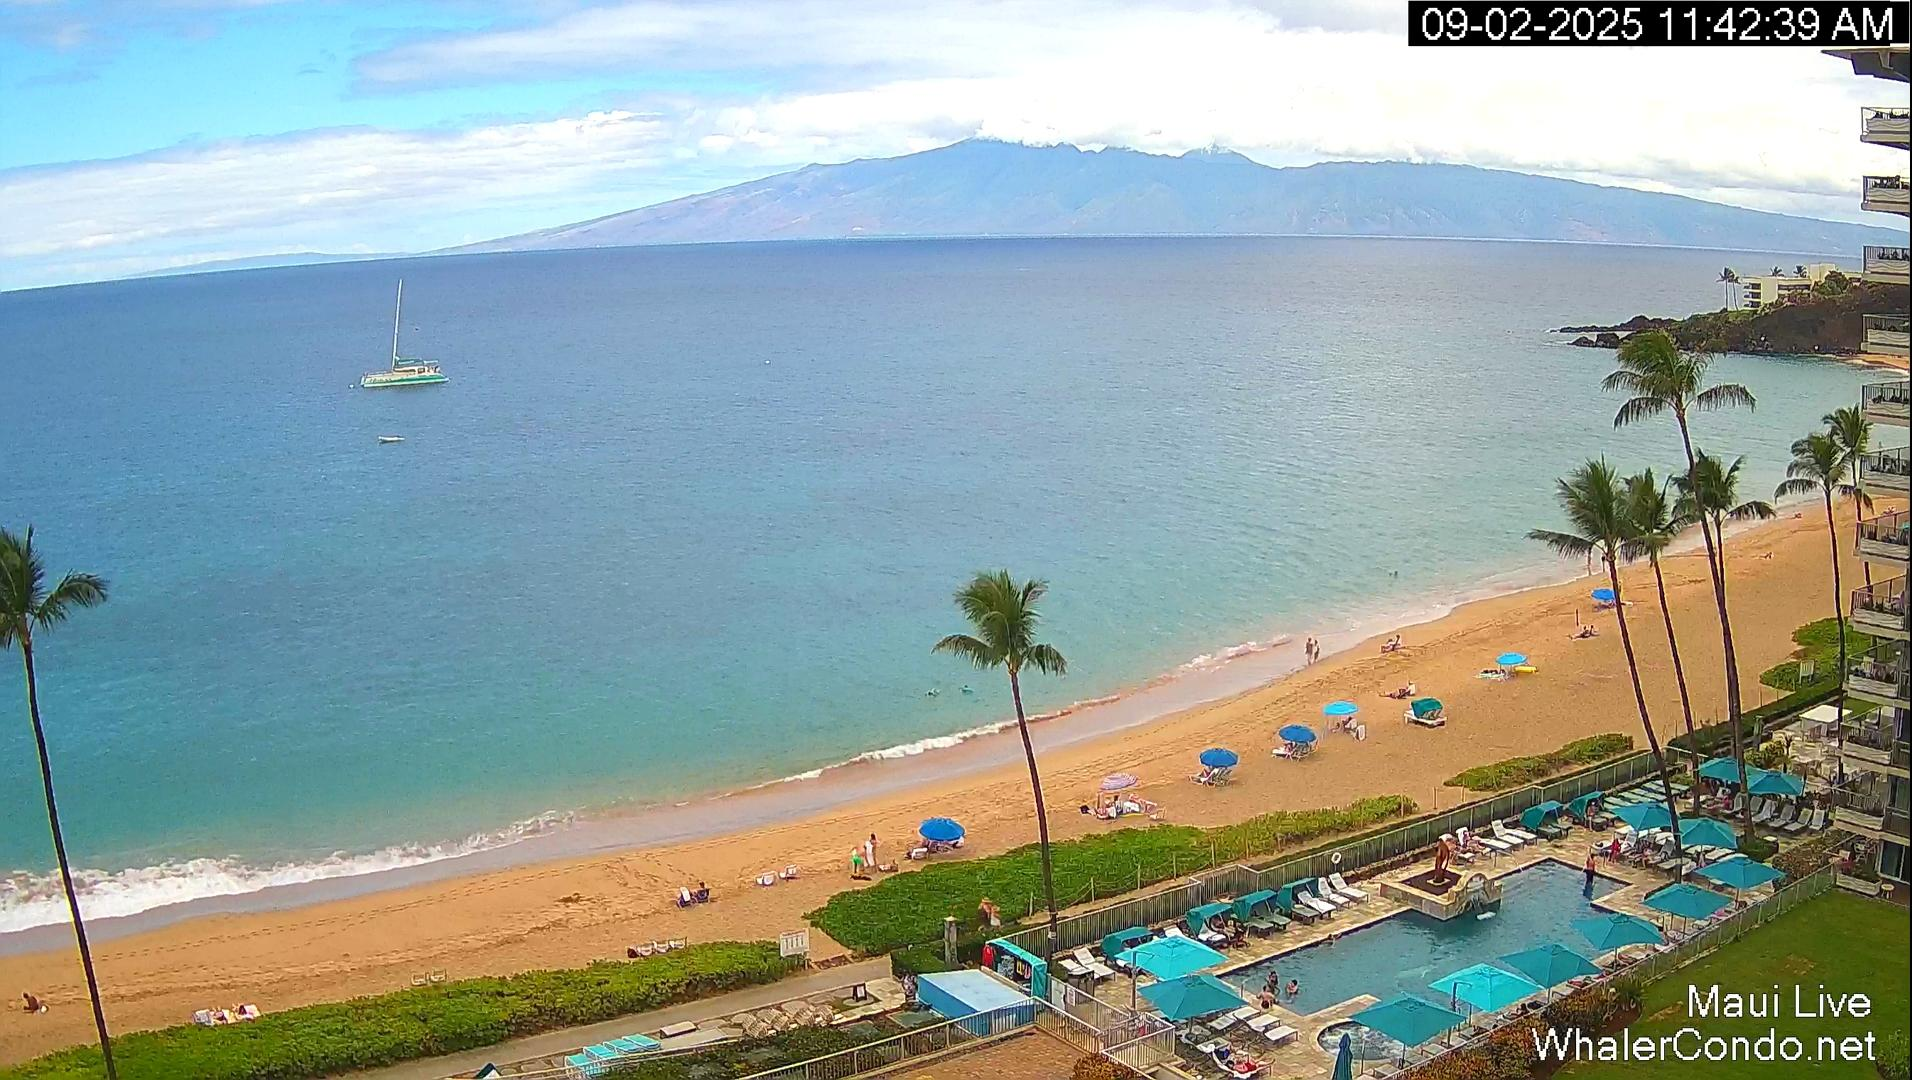boat: (359, 278, 449, 388), (379, 434, 406, 443)
person: (1212, 915, 1245, 944), (1230, 1055, 1275, 1074), (1227, 1053, 1274, 1069), (22, 992, 49, 1014), (867, 833, 882, 872), (976, 895, 991, 931), (1582, 852, 1596, 888), (1461, 831, 1485, 852), (1448, 838, 1471, 859), (1609, 832, 1624, 864), (1394, 679, 1419, 698), (208, 1006, 230, 1026), (1259, 985, 1276, 1009), (692, 881, 710, 903), (990, 905, 1002, 936), (855, 839, 866, 872), (851, 848, 864, 874), (232, 1003, 250, 1021), (1285, 979, 1299, 1001), (1304, 637, 1314, 666), (864, 838, 874, 867), (1267, 970, 1281, 990), (1587, 800, 1599, 819), (1337, 716, 1354, 729), (960, 684, 975, 698), (1312, 638, 1320, 664), (923, 688, 939, 701), (1515, 1000, 1529, 1013), (1388, 568, 1401, 581), (1326, 933, 1335, 947), (1393, 634, 1402, 647), (1759, 552, 1771, 560), (1792, 512, 1803, 519), (1395, 634, 1401, 640)
